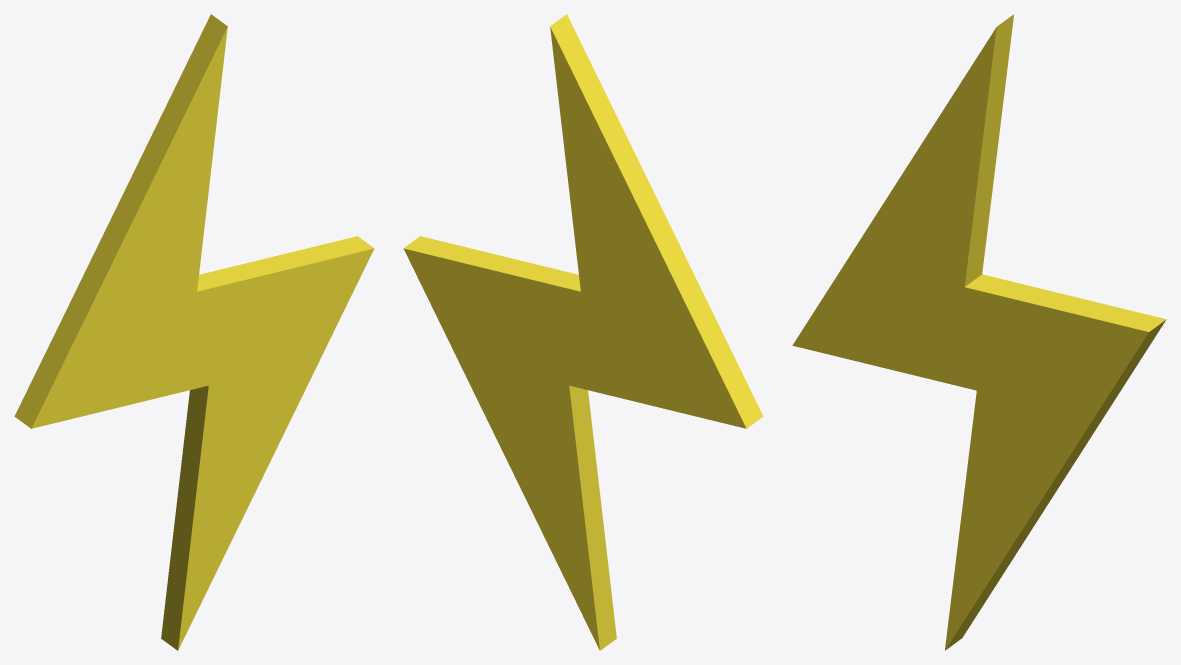
File: high_voltage.glb
3 renders of one model, left to right at view 1: azimuth 30°, elevation 25°; view 2: azimuth 150°, elevation 25°; view 3: azimuth 330°, elevation 25°, orthographic. The views are drawn at different scales.
Visible parts, largest first — view 1: Cube.212; view 2: Cube.212; view 3: Cube.212.
Boxes of the visible parts, x1,y1,x2,y2 form: Cube.212: [14, 14, 374, 650]; Cube.212: [403, 14, 763, 650]; Cube.212: [792, 14, 1166, 650].
Size of the model in its own units: 1.41 by 2.4 by 0.1199.
Materials: 1 (1 with a texture image).
